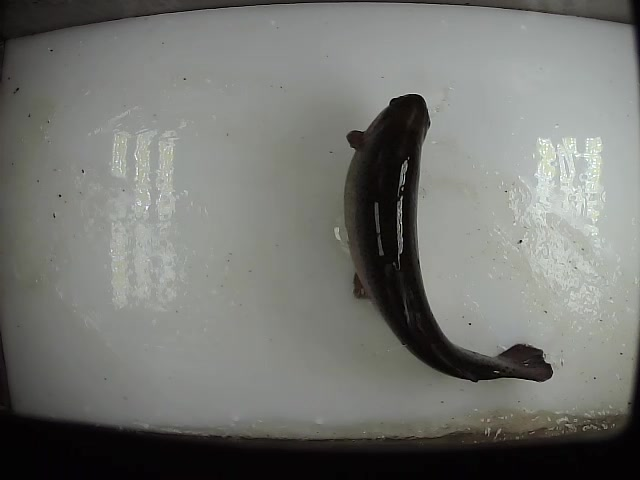fish: (340, 90, 555, 383)
